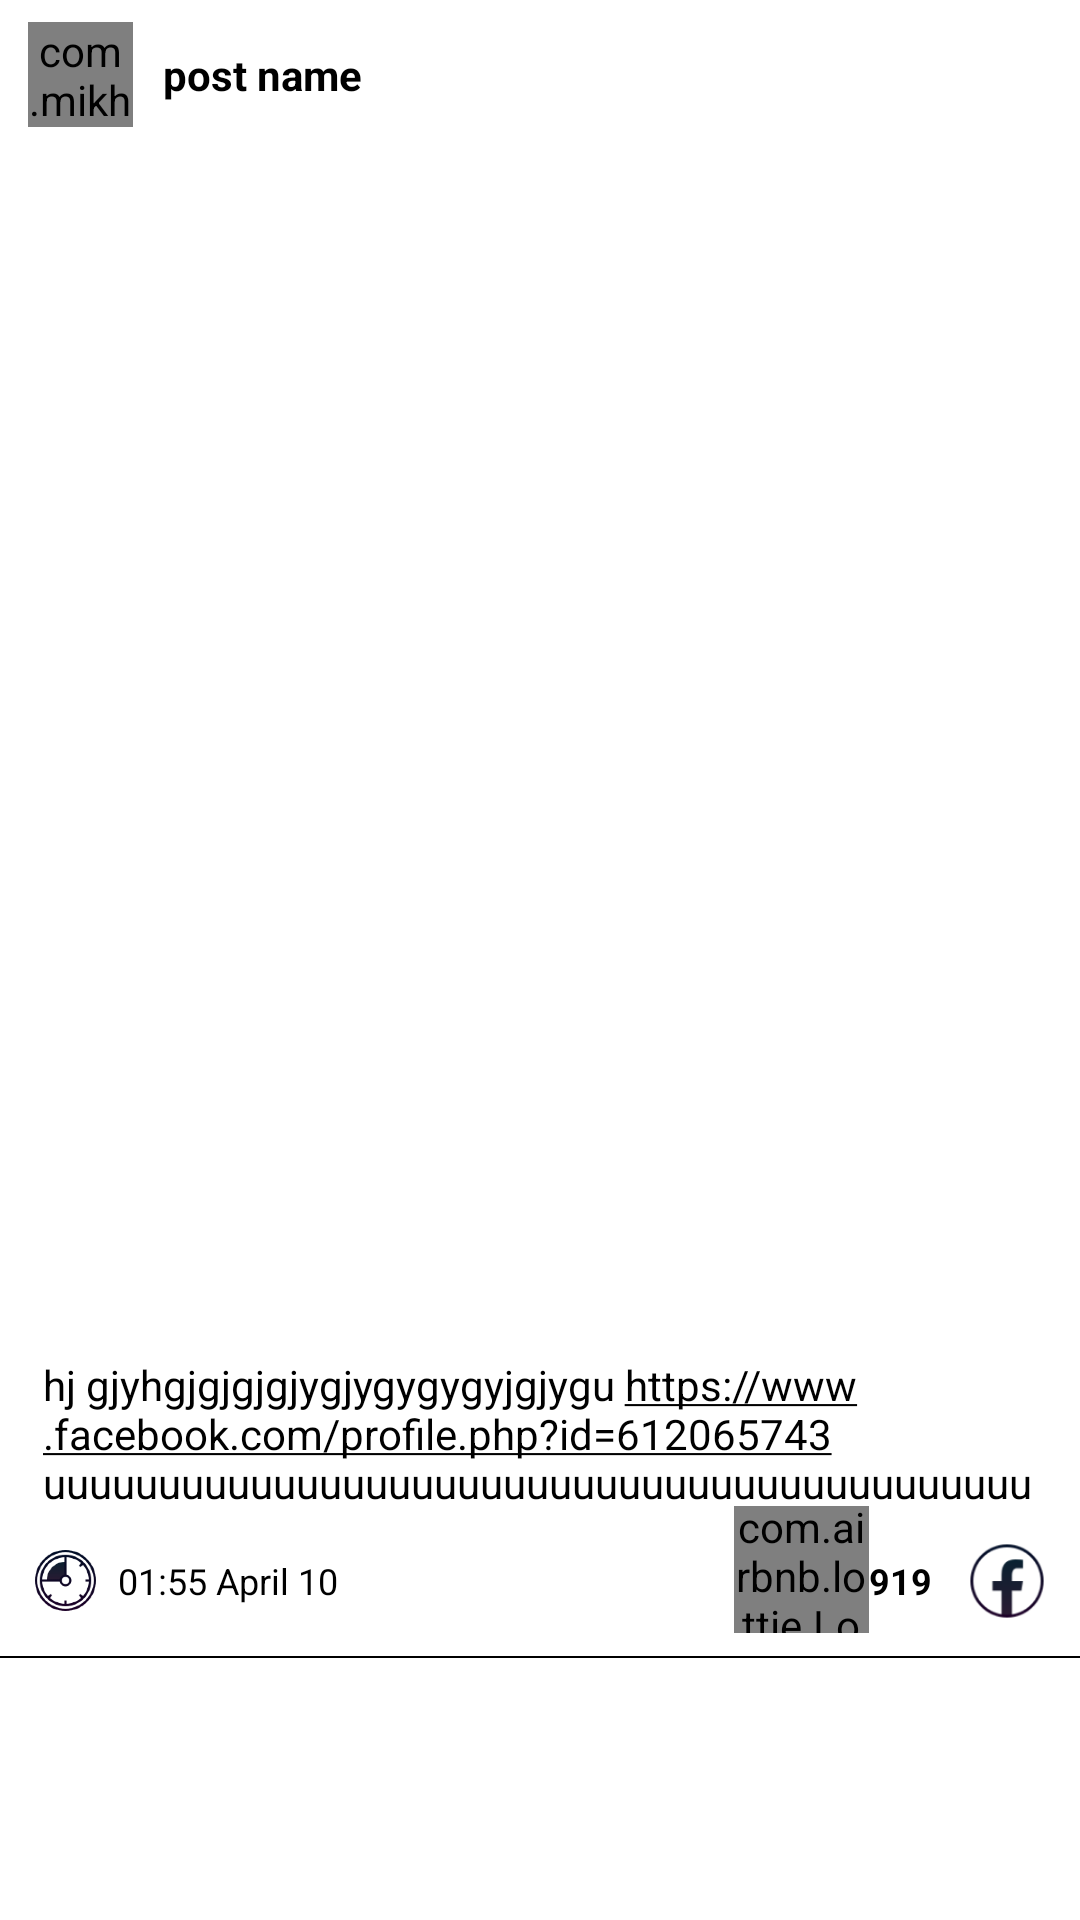

Icons on this 1080×1920 Android screen, each with its box as (x1, y1, x2, y2):
time: (35, 1550, 96, 1611)
